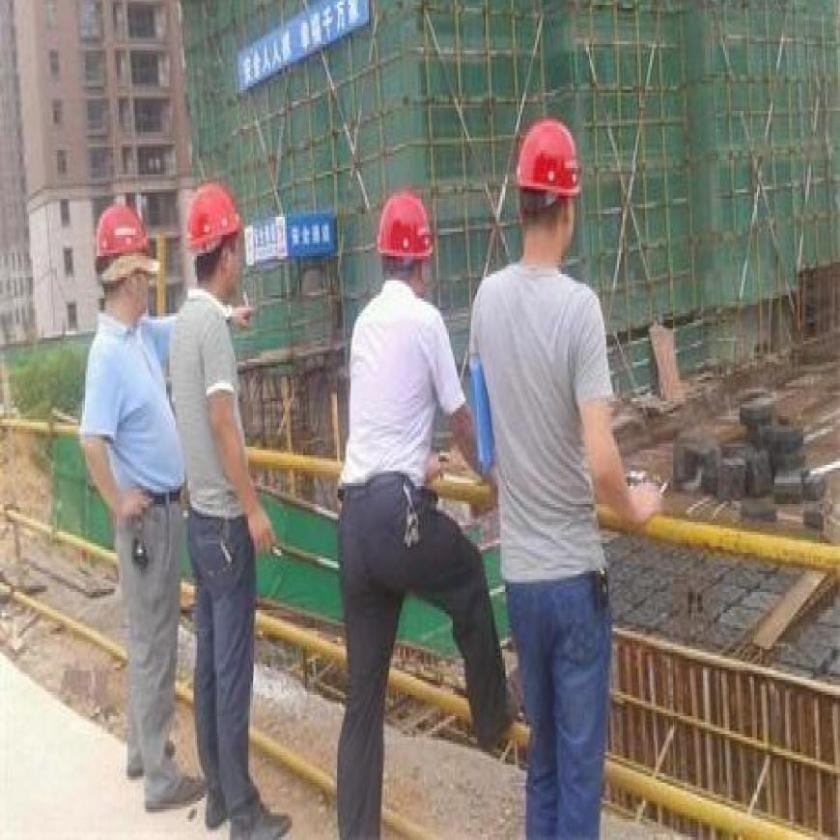Con_casco: (78, 180, 163, 343), (513, 117, 585, 271), (372, 184, 440, 310), (186, 181, 248, 312)
